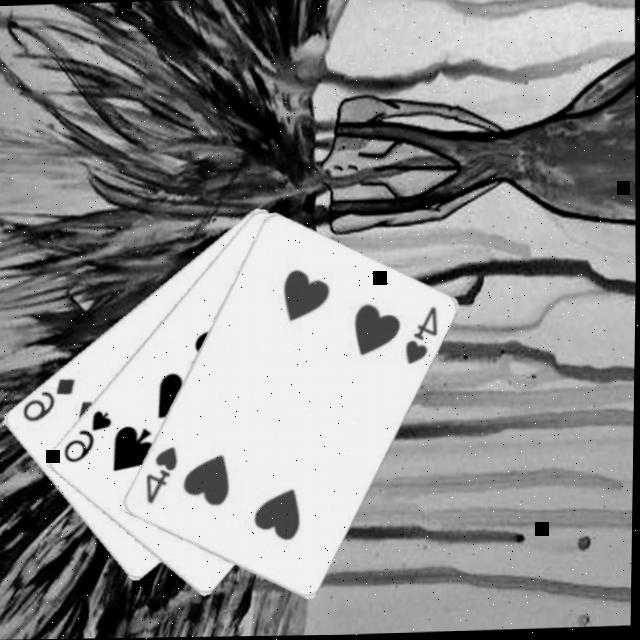4H: (399, 303, 440, 367), (140, 442, 180, 506)
9D: (16, 373, 77, 424)
9S: (57, 405, 115, 466)
